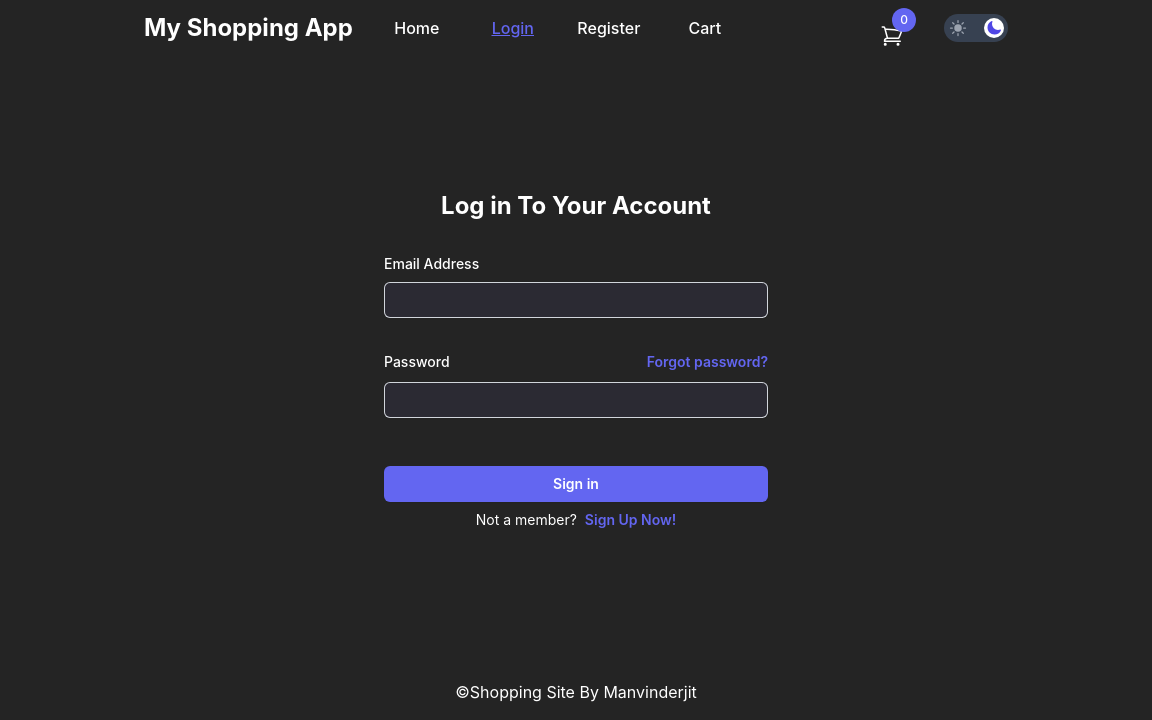
Test: should render Login error messages › should not submit empty form and render error messages
This screenshot has width=1152, height=720.
Expected: the heading "Log in To Your Account" is shown, [441,191,711,220]
Expected: the field labelled "Email Address" is empty, [384,282,768,318]
Step 1. Click the button "Sign in" → (576, 484), box [384,466,768,502]
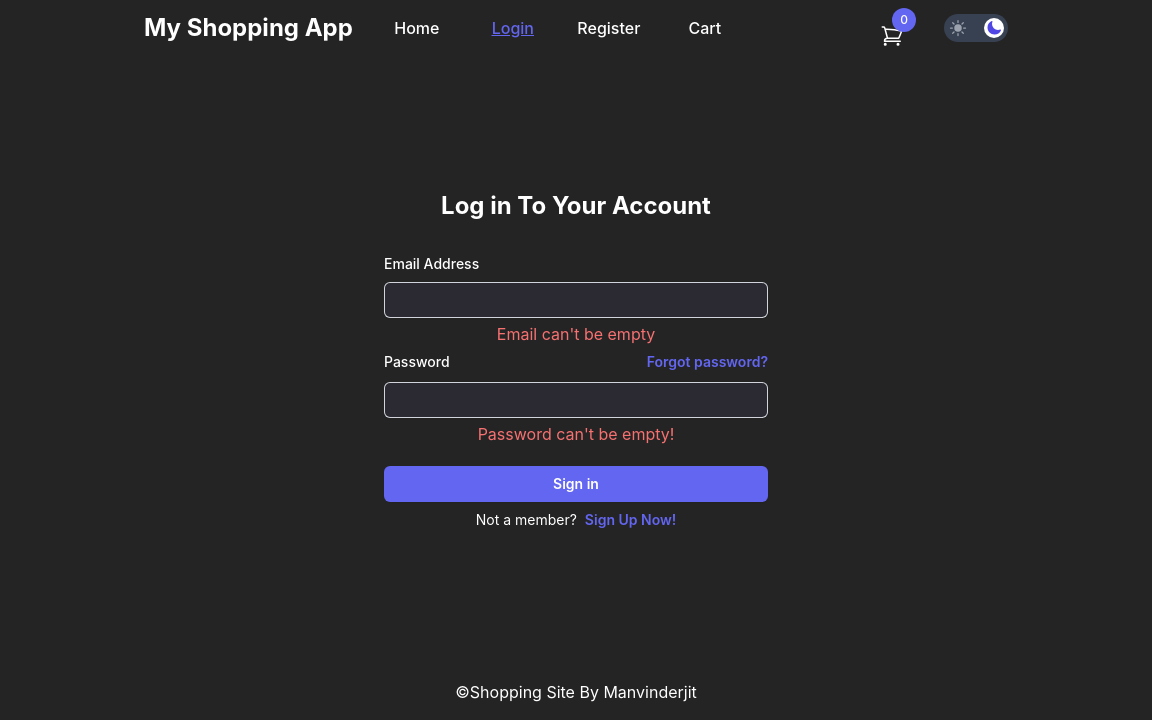
Expected: the field labelled "Email Address" is empty, [384,282,768,318]
Expected: the text "Email can't be empty" is shown, [497,324,655,344]
Expected: the text "Password can't be empty!" is shown, [478,424,674,444]
